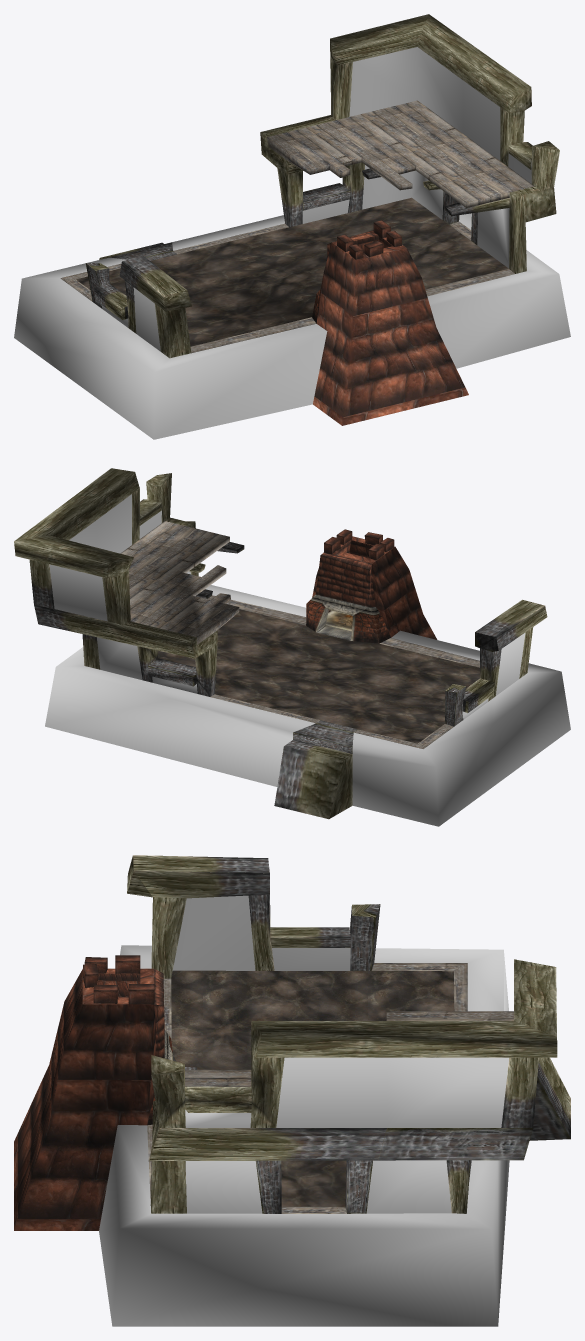
Rendered from huruinedbuildingssmall02.obj.
The picture shows the model from 3 angles, top to bottom: view 1: azimuth 30°, elevation 25°; view 2: azimuth 150°, elevation 25°; view 3: azimuth 270°, elevation 25°; orthographic projection. The views are drawn at different scales.
Visible parts, largest first — view 1: small; view 2: small; view 3: small.
Boxes of the visible parts, x1,y1,x2,y2 form: small: (14, 14, 570, 439); small: (14, 468, 570, 826); small: (14, 855, 570, 1326).
Size of the model in its own units: 28.64 by 13.26 by 22.23.
